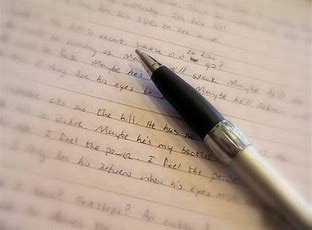pen: (137, 43, 309, 230)
